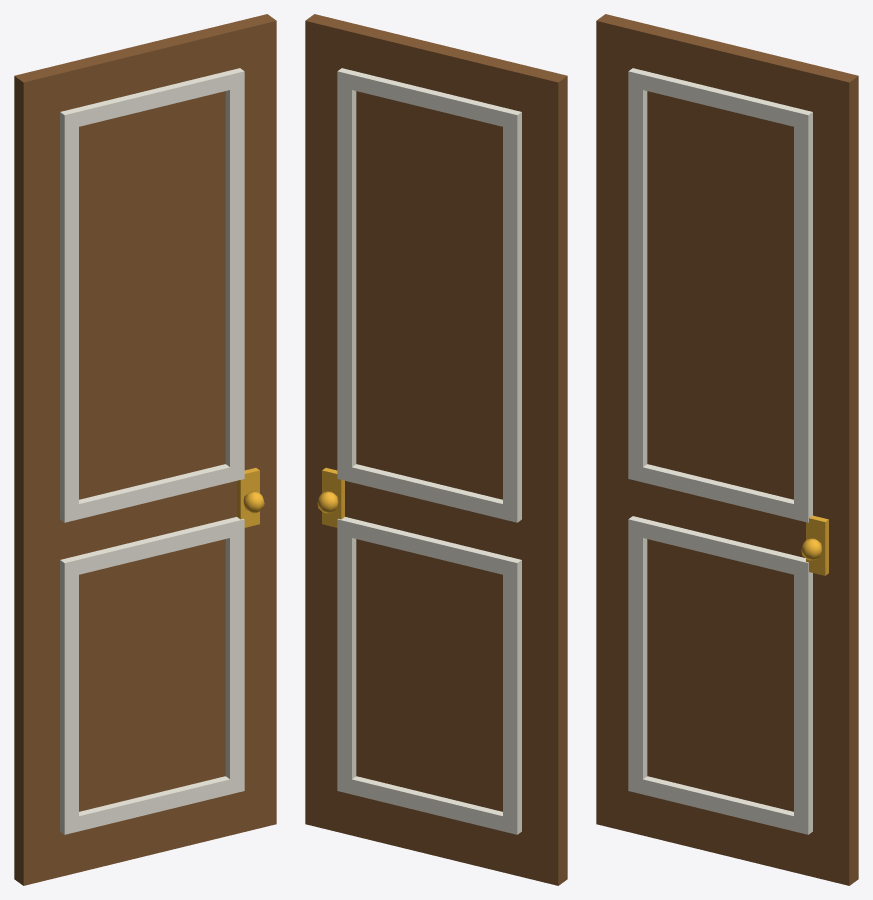
File: SM_Door_ra_inner_80x240.fbx
The picture shows the model from 3 angles, left to right: view 1: azimuth 30°, elevation 25°; view 2: azimuth 150°, elevation 25°; view 3: azimuth 330°, elevation 25°; orthographic projection.
Parts seen in each view (by area): view 1: SM_Door_ra_inner_80x240; view 2: SM_Door_ra_inner_80x240; view 3: SM_Door_ra_inner_80x240.
Part boxes in pixels (left/top/right/bottom): SM_Door_ra_inner_80x240: left=14, top=14, right=276, bottom=885; SM_Door_ra_inner_80x240: left=305, top=14, right=567, bottom=885; SM_Door_ra_inner_80x240: left=596, top=14, right=858, bottom=885.
Bounding box in the file's own units: 0.788 × 2.39 × 0.19.
